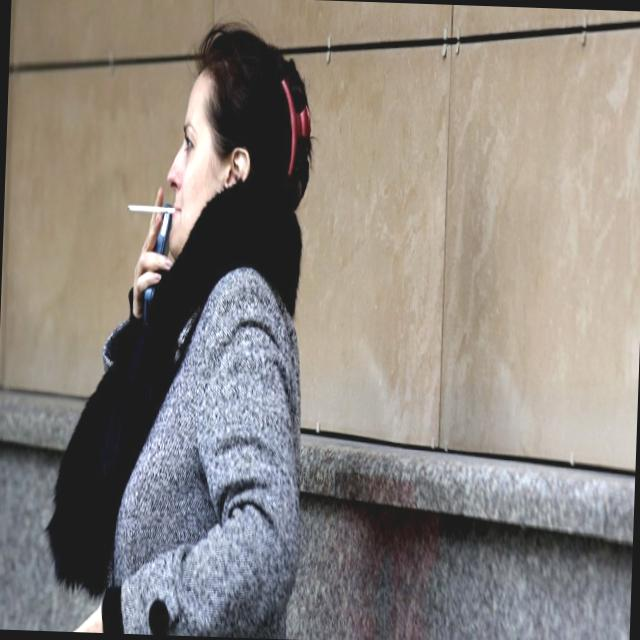cigarette: (125, 199, 181, 223)
